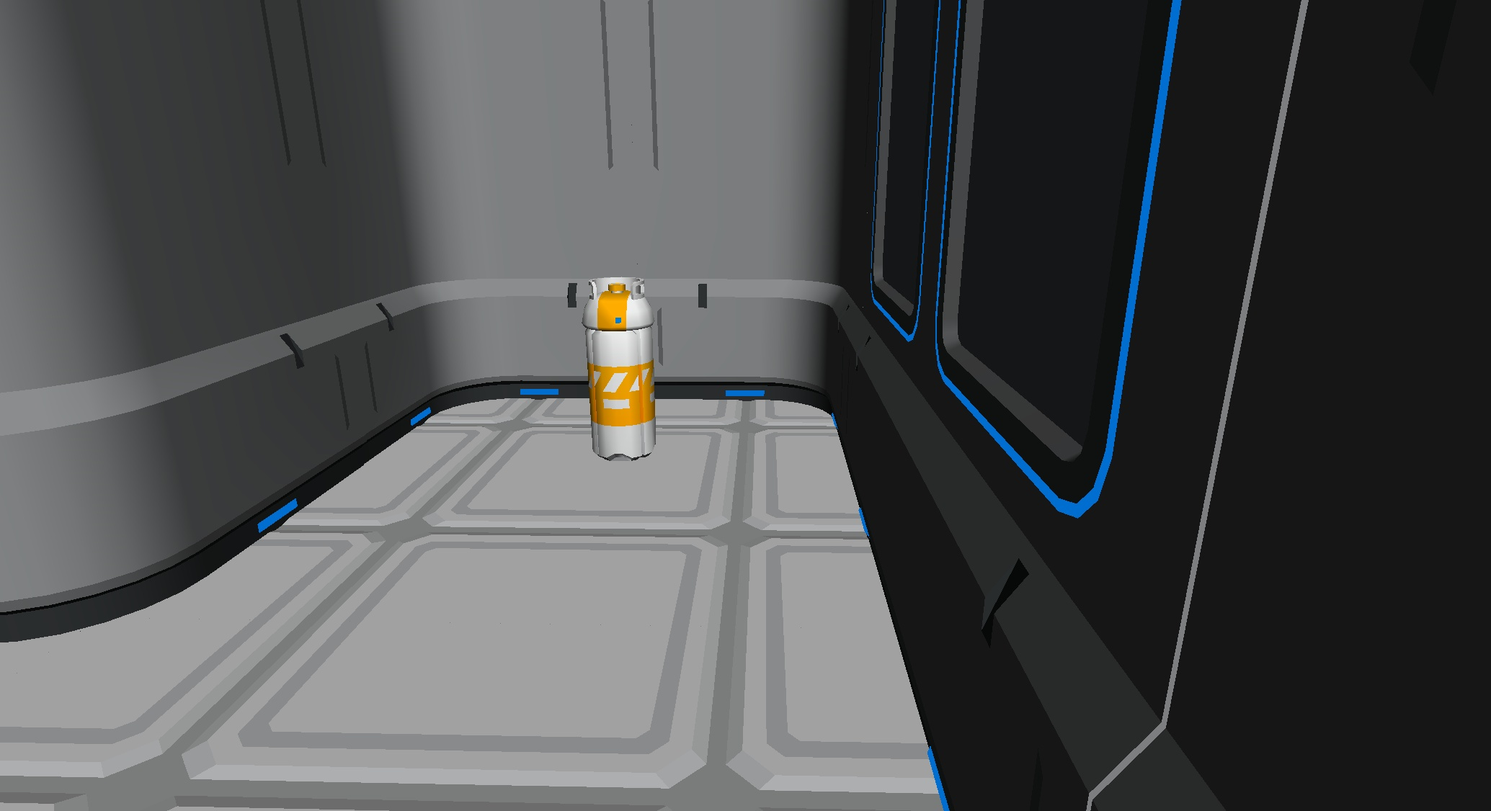yellow_barrel: (584, 277, 661, 460)
